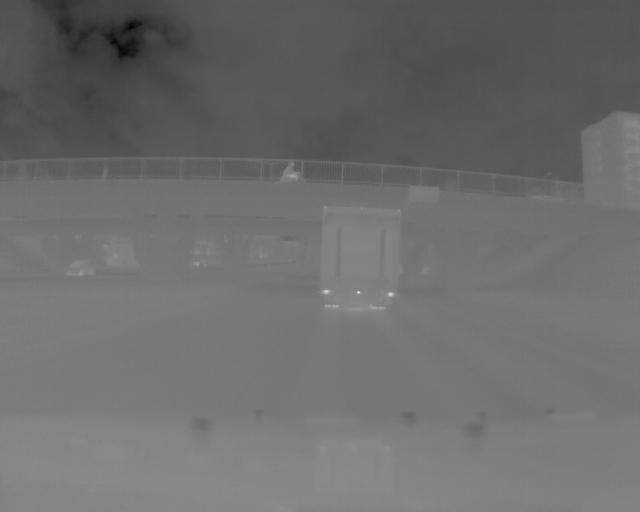car: (319, 203, 399, 315), (65, 256, 99, 280)
